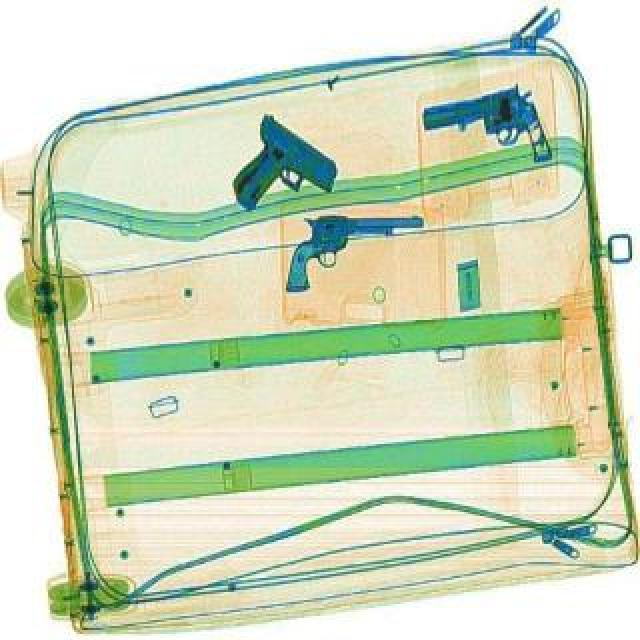gun: (206, 110, 348, 238), (414, 82, 554, 182), (284, 214, 424, 290)
